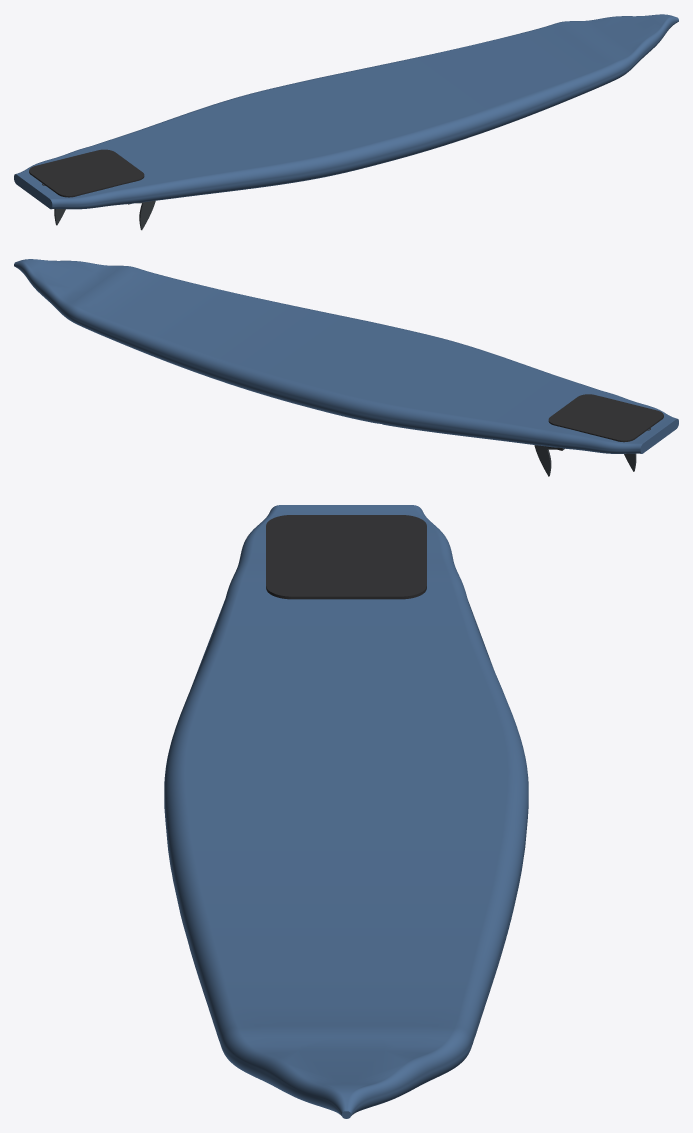
The picture shows the model from 3 angles, top to bottom: view 1: azimuth 30°, elevation 25°; view 2: azimuth 150°, elevation 25°; view 3: azimuth 270°, elevation 25°; orthographic projection. The views are drawn at different scales.
Parts seen in each view (by area): view 1: body.1, rubber.4; view 2: body.1, rubber.4; view 3: body.1, rubber.4.
Boxes of the visible parts, left/top/right/bottom form: body.1: left=14, top=14, right=678, bottom=209; rubber.4: left=29, top=149, right=144, bottom=197; body.1: left=14, top=259, right=678, bottom=453; rubber.4: left=548, top=394, right=663, bottom=442; body.1: left=164, top=505, right=528, bottom=1118; rubber.4: left=266, top=515, right=426, bottom=599.
Size of the model in its own units: 2.29 by 0.21 by 0.5593.
